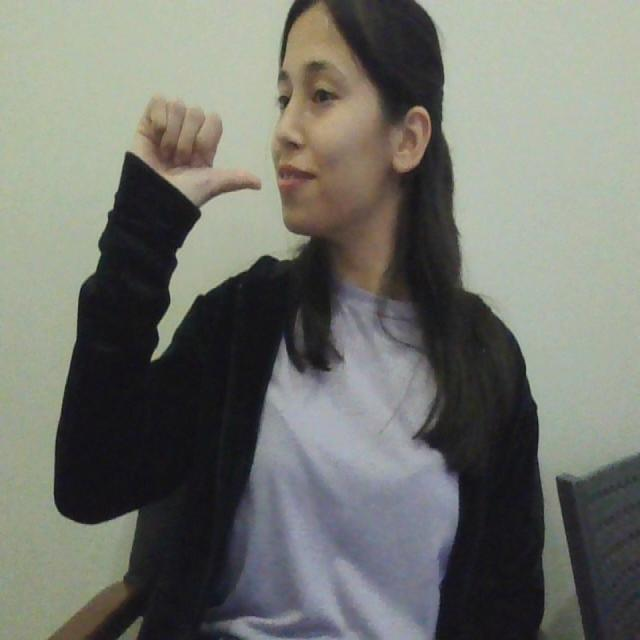icmek: (116, 104, 302, 234)
